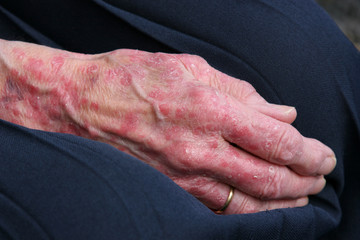Diseased: (112, 49, 280, 207)
